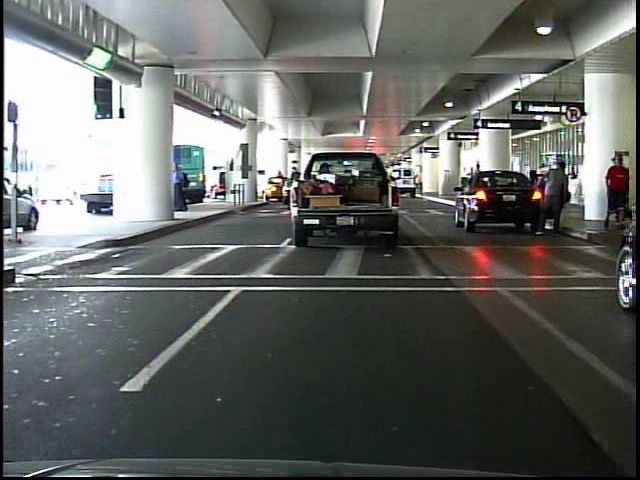person: (532, 147, 572, 240), (603, 151, 629, 207)
